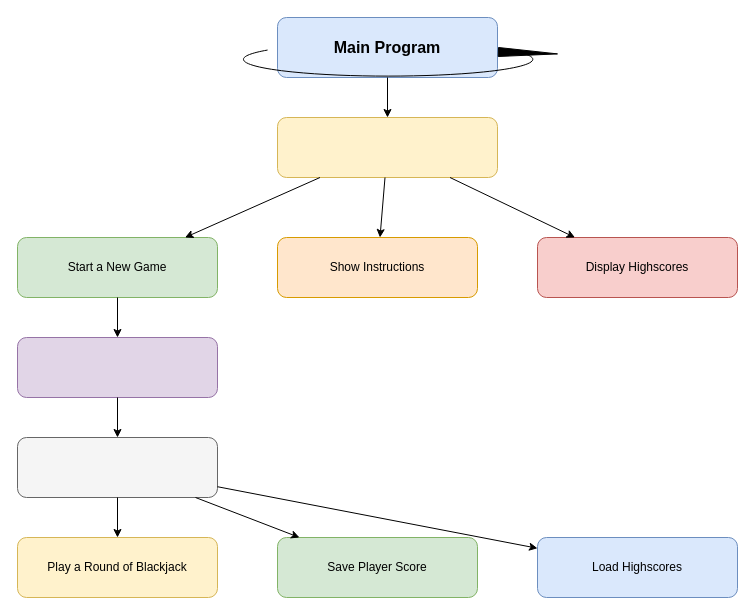
Some shapes in this 755 by 615 pixel diagram are drawn without their labels. Each missing label, with the centre of its shape:
Create Game Session: the point at 117,367
Run the Game Session: the point at 117,467
Show Menu Options: the point at 387,147
